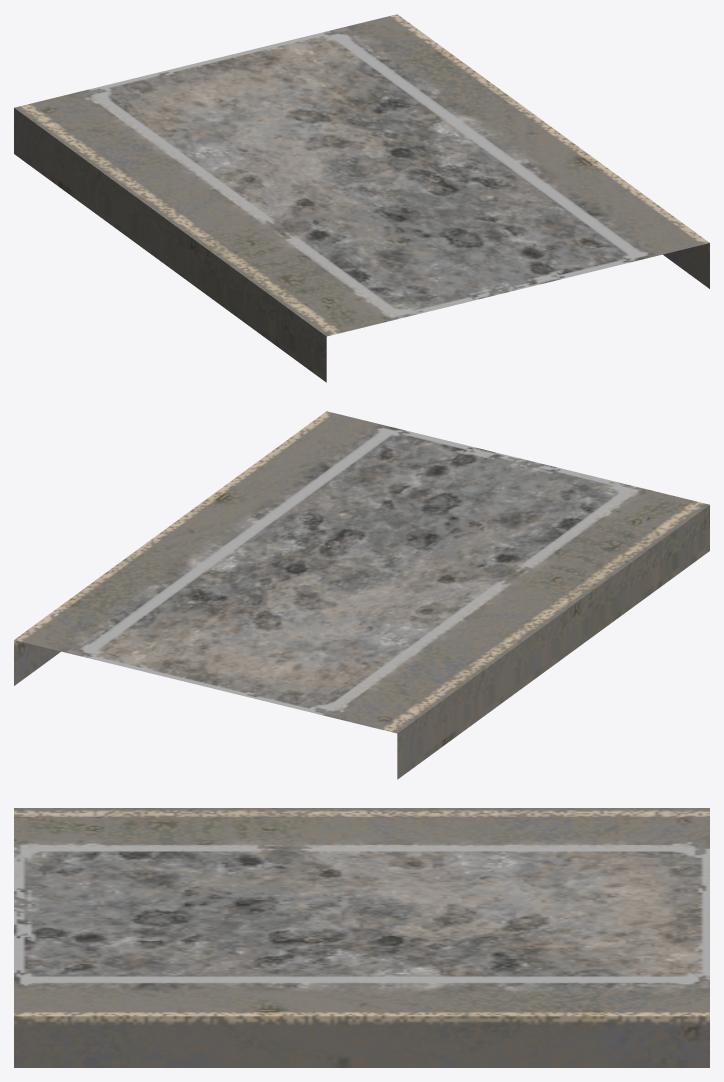
File: SM_road1tile.fbx
3 views of the same model, one above another, from view 1: azimuth 30°, elevation 25°; view 2: azimuth 150°, elevation 25°; view 3: azimuth 270°, elevation 25° (orthographic). The views are drawn at different scales.
Parts seen in each view (by area): view 1: SM_load1tile; view 2: SM_load1tile; view 3: SM_load1tile.
Boxes of the visible parts, bbox=[...] form: SM_load1tile: bbox=[14, 14, 709, 382]; SM_load1tile: bbox=[14, 411, 709, 779]; SM_load1tile: bbox=[14, 808, 709, 1067].
Size of the model in its own units: 63.97 by 7.37 by 90.37.
